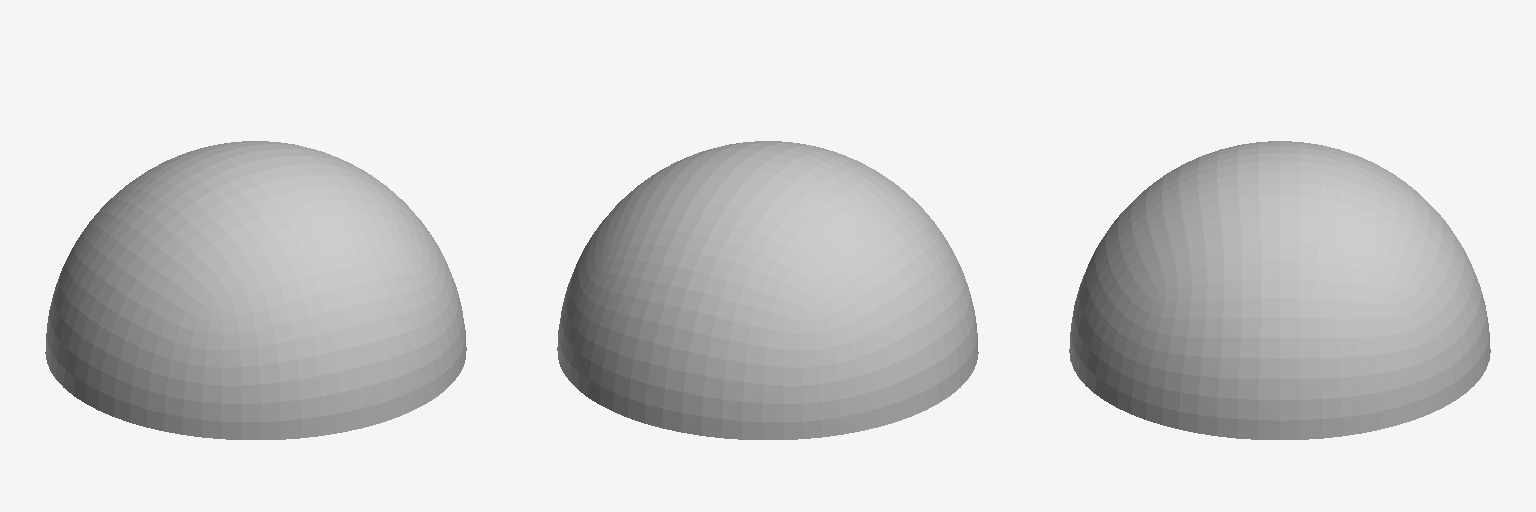
The model's file is world_top.obj.
The picture shows the model from 3 angles: view 1: azimuth 30°, elevation 25°; view 2: azimuth 150°, elevation 25°; view 3: azimuth 270°, elevation 25°; orthographic projection.
Parts seen in each view (by area): view 1: Cube.002; view 2: Cube.002; view 3: Cube.002.
Boxes of the visible parts, x1,y1,x2,y2 form: Cube.002: [45, 141, 466, 439]; Cube.002: [557, 141, 978, 439]; Cube.002: [1069, 141, 1490, 439].
Size of the model in its own units: 1.71 by 0.8563 by 1.71.